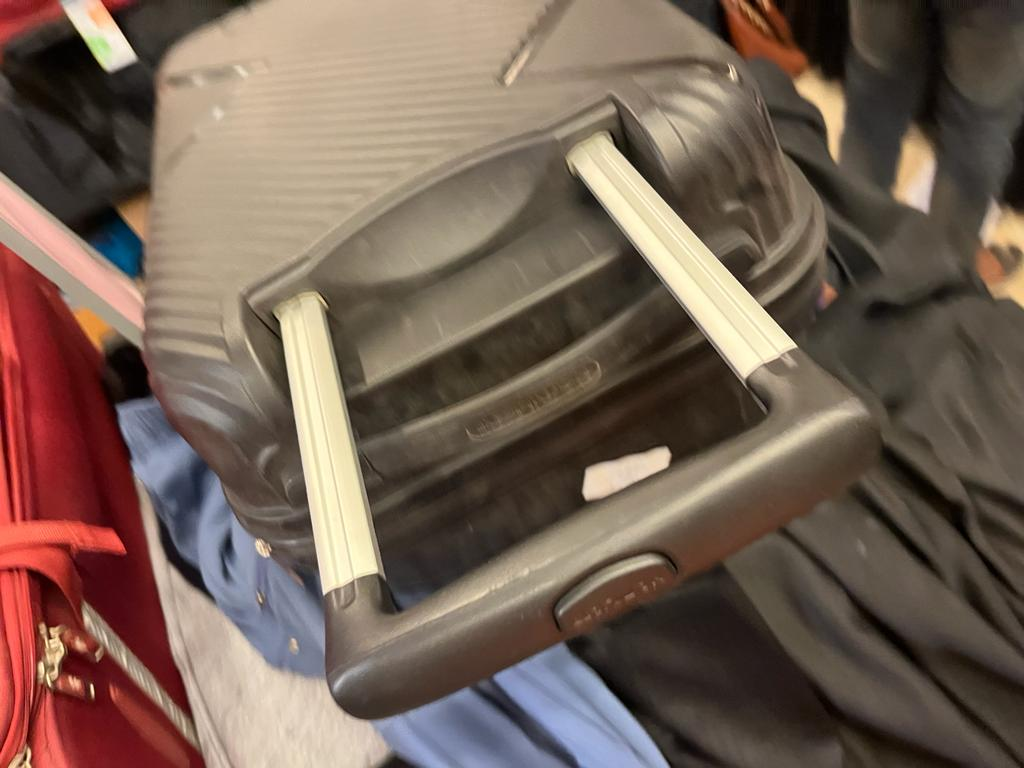Bag: (118, 0, 899, 732)
Handle: (234, 126, 884, 729)
